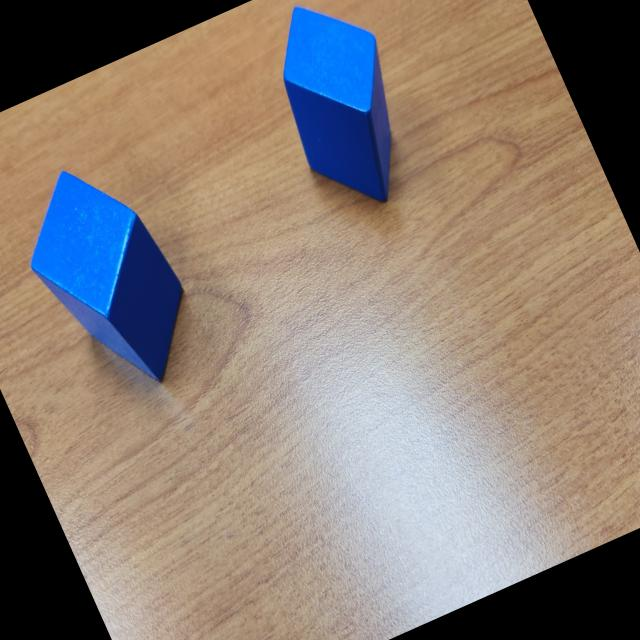blue: (0, 139, 218, 411), (244, 0, 440, 227)
